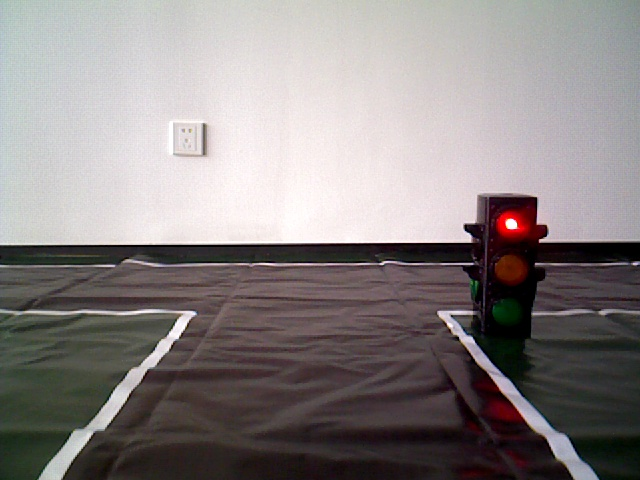red: (479, 197, 532, 330)
